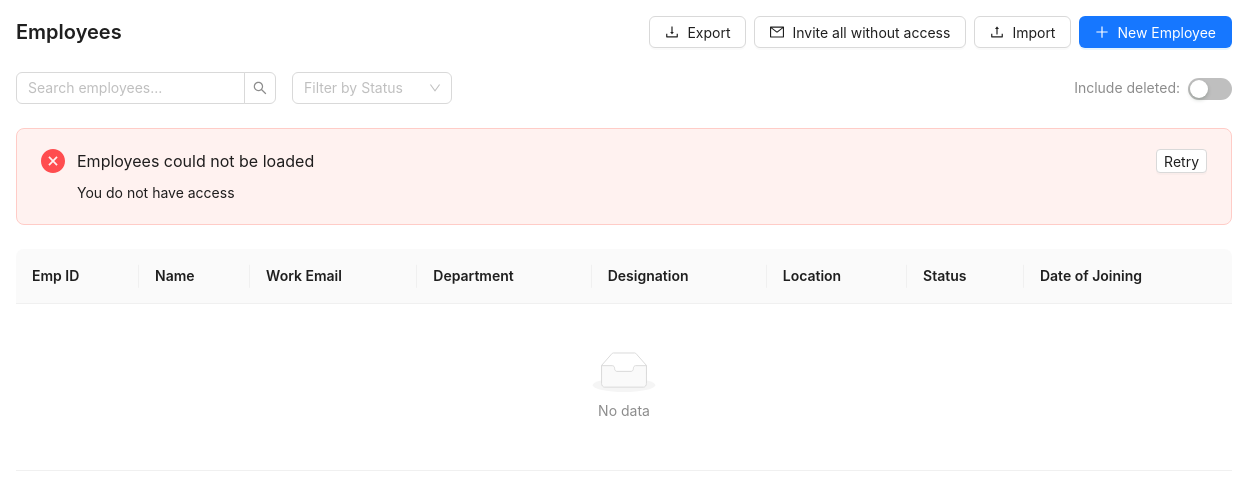
Test case: EmployeeList component › shows the error and a retry instead of an empty table when the load fails
This screenshot has width=1249, height=488.
Expected: the text "Employees could not be loaded" is shown, [77, 151, 314, 171]
Expected: the text "You do not have access" is shown, [77, 184, 235, 201]
Click the button with id "btn-retry-employees": (1182, 161) [1156, 149, 1207, 173]
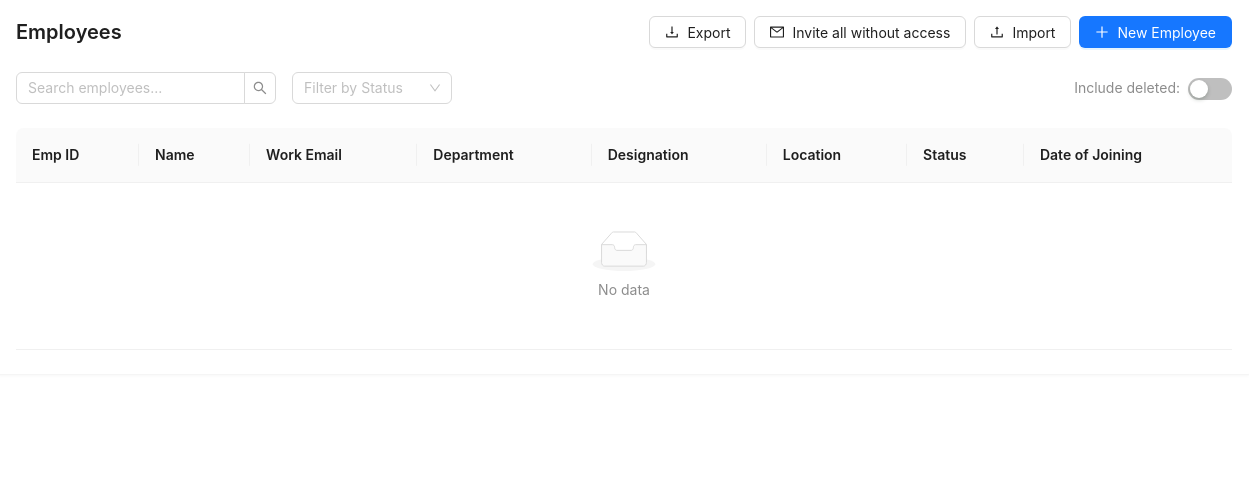
Result: the text "Employees could not be loaded" is gone
